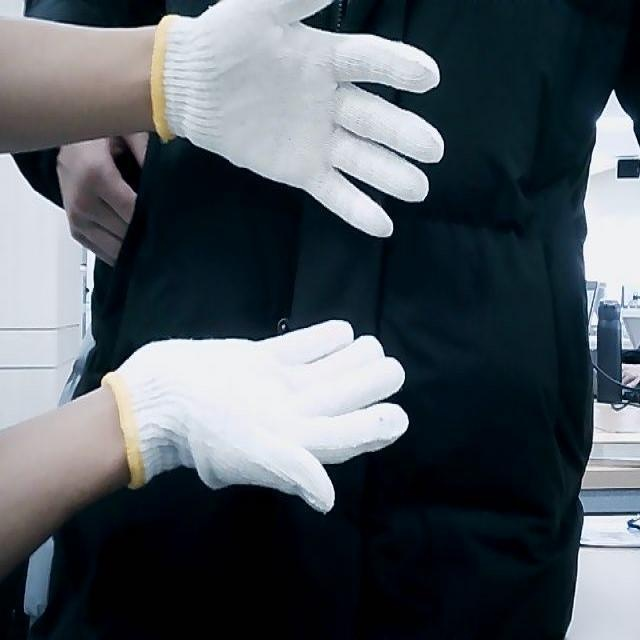Guantes: (150, 0, 446, 247), (102, 318, 410, 515)
